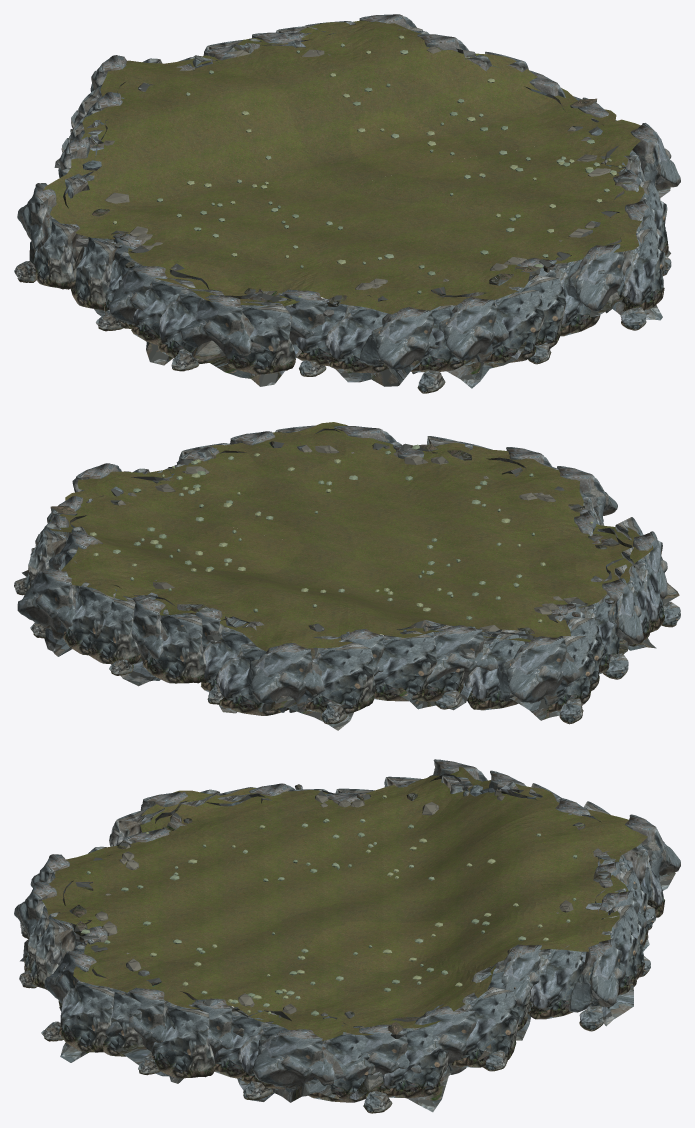
Rendered from ValoriaRockAndGroundV3-ENV.glb.
3 views of the same model, one above another, from view 1: azimuth 30°, elevation 25°; view 2: azimuth 150°, elevation 25°; view 3: azimuth 270°, elevation 25° (orthographic).
Visible parts, largest first — view 1: Valoria Highlands - Blender sculpted environment, Buried continuous cliff contact receiver - existing geometry, CC0 cluster directed cliff course 36, CC0 cluster directed cliff course 31, CC0 directed cliff course 32, CC0 cluster directed cliff course 38, CC0 directed cliff course 39, CC0 directed cliff course 44, CC0 directed cliff course 35, CC0 cluster directed cliff course 43, CC0 directed cliff course 24, CC0 directed cliff course 25 (+14 smaller); view 2: Valoria Highlands - Blender sculpted environment, Buried continuous cliff contact receiver - existing geometry, CC0 cluster directed cliff course 23, CC0 cluster directed cliff course 16, CC0 directed cliff course 17, CC0 directed cliff course 19, CC0 directed cliff course 12, CC0 cluster directed cliff course 08, CC0 directed cliff course 22, CC0 cluster directed cliff course 21, CC0 directed cliff course 10, CC0 directed cliff course 15 (+20 smaller); view 3: Valoria Highlands - Blender sculpted environment, Buried continuous cliff contact receiver - existing geometry, CC0 cluster directed cliff course 51, CC0 directed cliff course 47, CC0 directed cliff course 04, CC0 directed cliff course 44, CC0 directed cliff course 02, CC0 directed cliff course 07, CC0 cluster directed cliff course 08, CC0 cluster directed cliff course 01, CC0 cluster directed cliff course 03, CC0 directed cliff course 00 (+20 smaller).
Boxes of the visible parts, x1,y1,x2,y2 form: Valoria Highlands - Blender sculpted environment: (43,20,644,314); Buried continuous cliff contact receiver - existing geometry: (29,26,670,388); CC0 cluster directed cliff course 36: (360,307,438,374); CC0 cluster directed cliff course 31: (180,294,265,363); CC0 directed cliff course 32: (228,301,295,374); CC0 cluster directed cliff course 38: (439,297,508,363); CC0 directed cliff course 39: (483,289,544,363); CC0 directed cliff course 44: (617,228,665,311); CC0 directed cliff course 35: (324,305,388,373); CC0 cluster directed cliff course 43: (566,244,624,313); CC0 directed cliff course 24: (32,217,84,289); CC0 directed cliff course 25: (70,237,116,310); Valoria Highlands - Blender sculpted environment: (49,422,653,651); Buried continuous cliff contact receiver - existing geometry: (22,428,679,730); CC0 cluster directed cliff course 23: (497,636,580,706); CC0 cluster directed cliff course 16: (246,643,324,712); CC0 directed cliff course 17: (306,643,375,714); CC0 directed cliff course 19: (374,630,437,701); CC0 directed cliff course 12: (143,609,206,683); CC0 cluster directed cliff course 08: (17,568,77,639); CC0 directed cliff course 22: (465,629,525,710); CC0 cluster directed cliff course 21: (426,625,498,683); CC0 directed cliff course 10: (89,595,141,664); CC0 directed cliff course 15: (216,643,289,715); Valoria Highlands - Blender sculpted environment: (42,767,647,1040); Buried continuous cliff contact receiver - existing geometry: (20,773,675,1112); CC0 cluster directed cliff course 51: (252,1029,350,1096); CC0 directed cliff course 47: (151,1003,215,1078); CC0 directed cliff course 04: (452,986,519,1067); CC0 directed cliff course 44: (59,980,114,1052); CC0 directed cliff course 02: (378,1026,448,1098); CC0 directed cliff course 07: (527,945,584,1019); CC0 cluster directed cliff course 08: (569,939,625,1012); CC0 cluster directed cliff course 01: (343,1024,421,1088); CC0 cluster directed cliff course 03: (415,1006,476,1074); CC0 directed cliff course 00: (308,1026,379,1102).
Size of the model in its own units: 91.15 by 17.49 by 89.65.
Materials: 14 (11 with a texture image).
